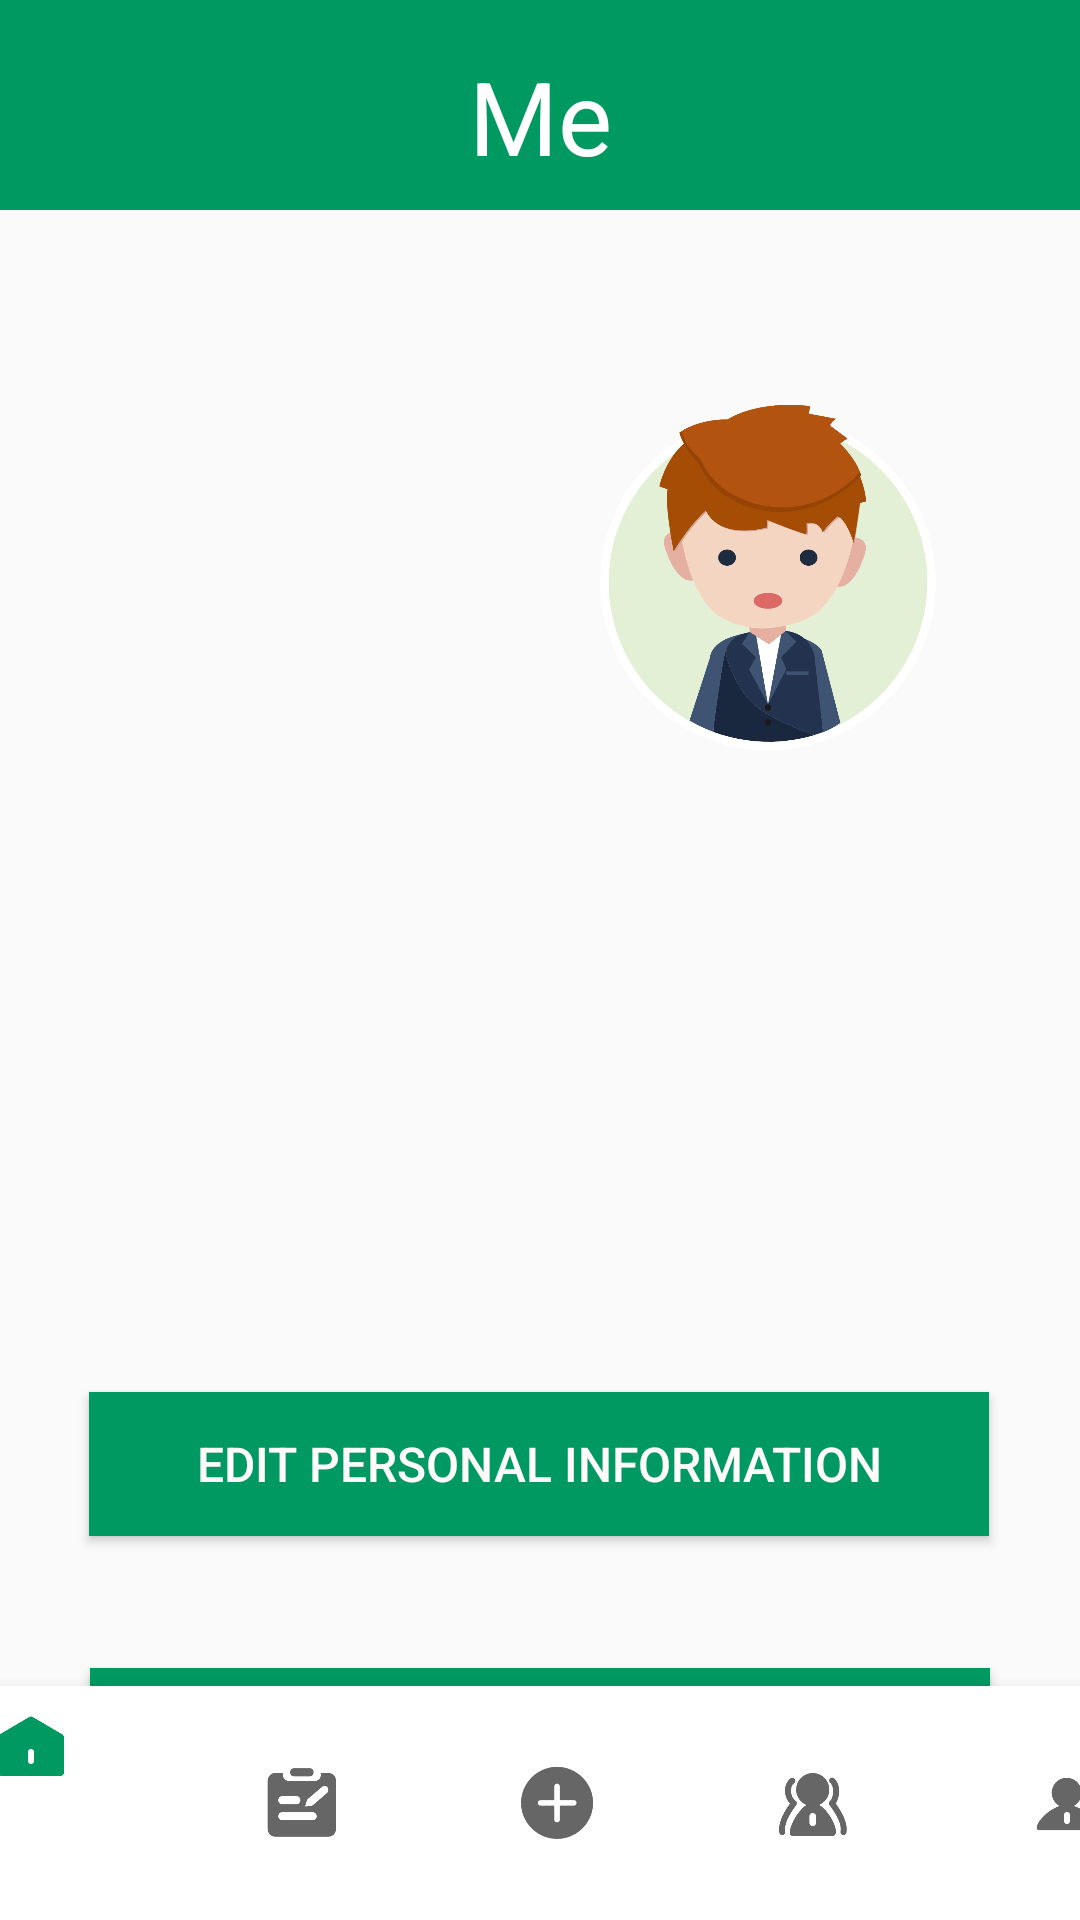

Icon bounding boxes for this 1080x1920 phone screenshot, format (x1, y1, x2, y2):
pic headphoto: (609, 405, 927, 742)
